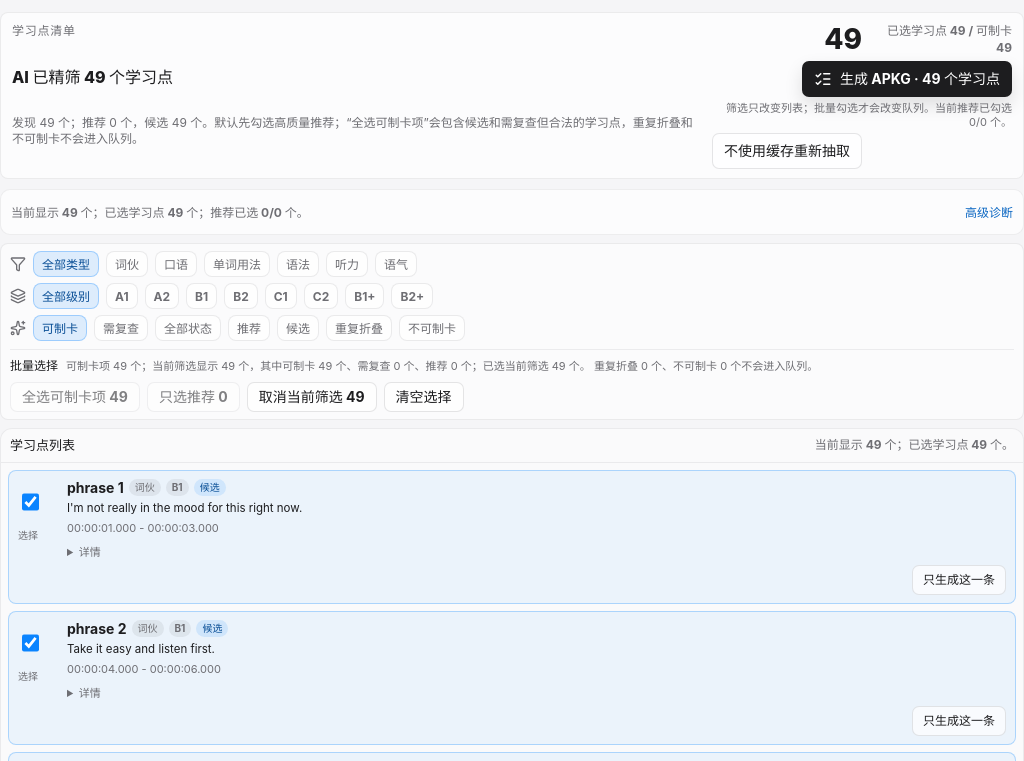
Scenario: LearningPointOverview › shows batch generation language for queues larger than the adaptive stable batch size
Step 1. Click the button "生成 APKG · 49 个学习点" → point(907, 79), box [802, 61, 1012, 97]
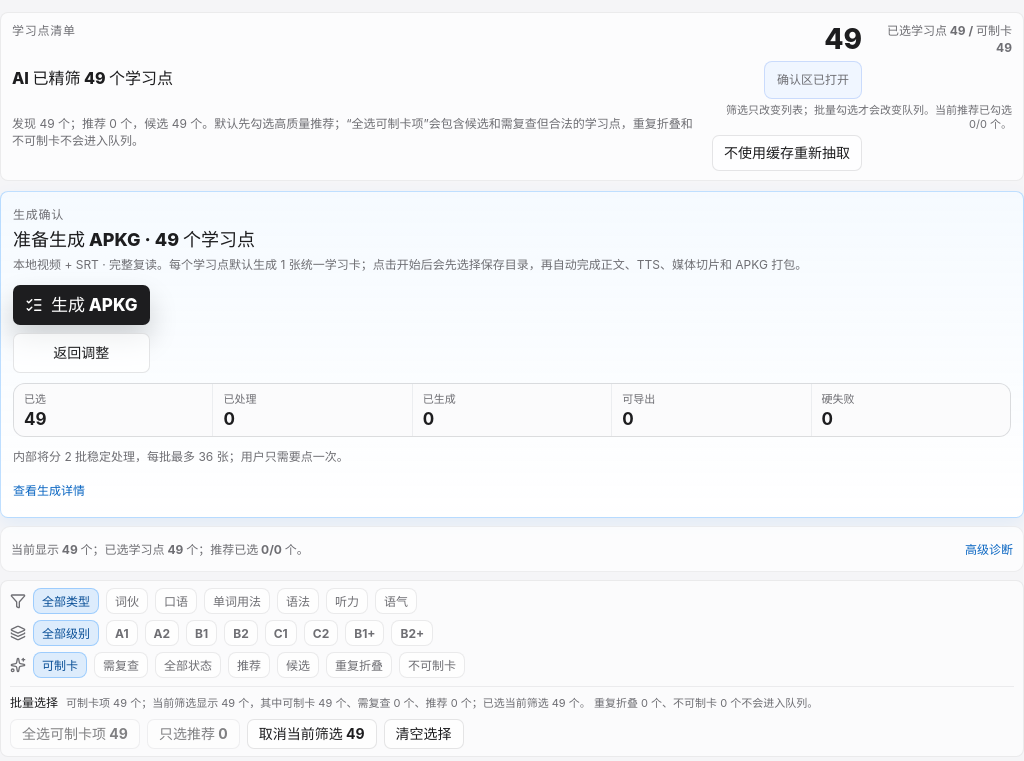
Check: the button "生成 APKG" is enabled, box [13, 285, 150, 325]
Check: the heading "准备生成 APKG · 49 个学习点" is shown, box [13, 229, 255, 250]
Check: the text "内部将分 2 批稳定处理，每批最多 36 张；用户只需要点一次。" is shown, box [13, 449, 349, 465]
